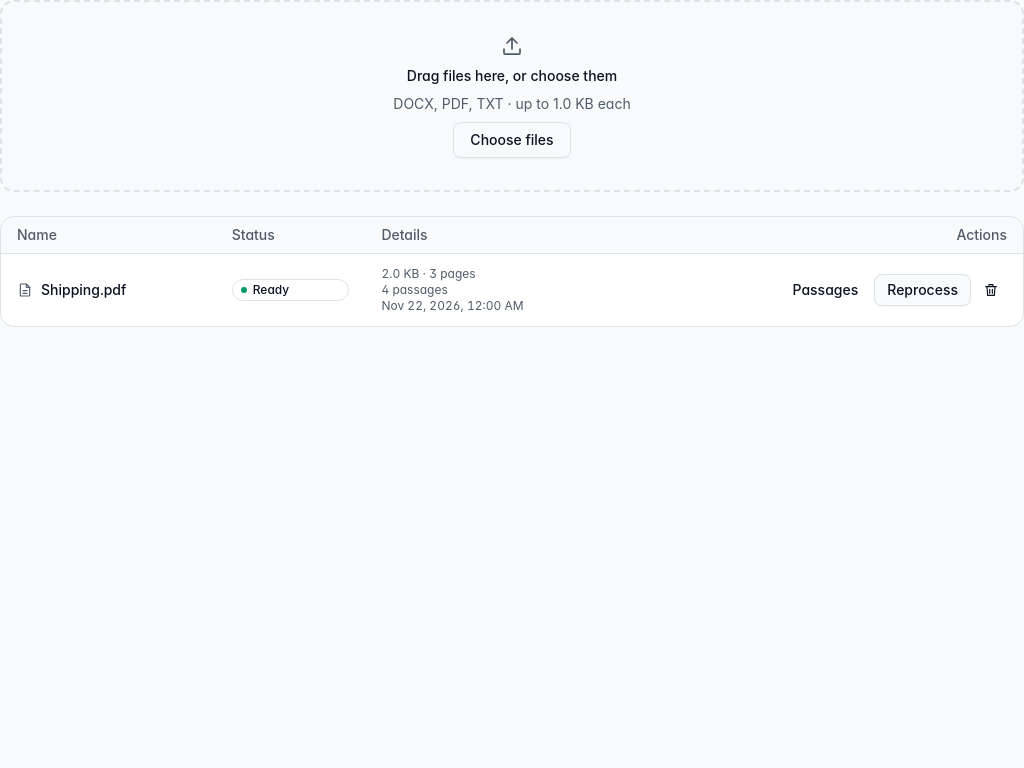
Test: DocumentsPanel › deletes only after confirmation
The image size is (1024, 768).
Check: the table is shown, box [1, 217, 1023, 326]
Click the button named "Delete Shipping.pdf": (991, 290) [975, 274, 1007, 306]
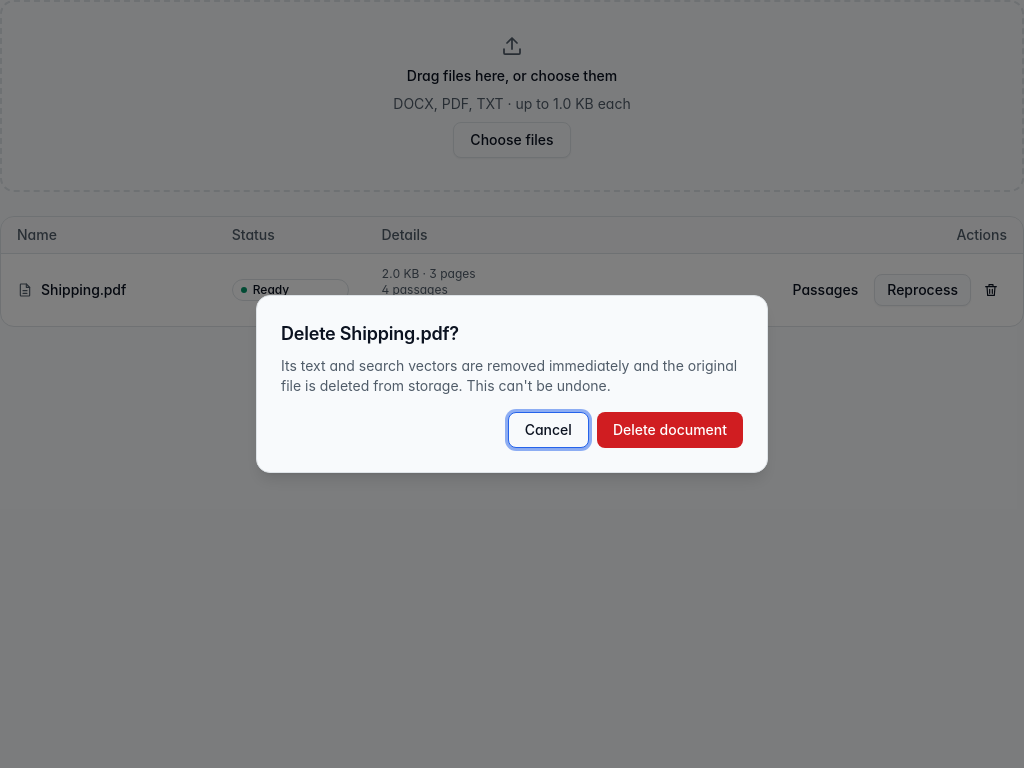
Click the button "Cancel": (548, 430) [508, 412, 589, 448]
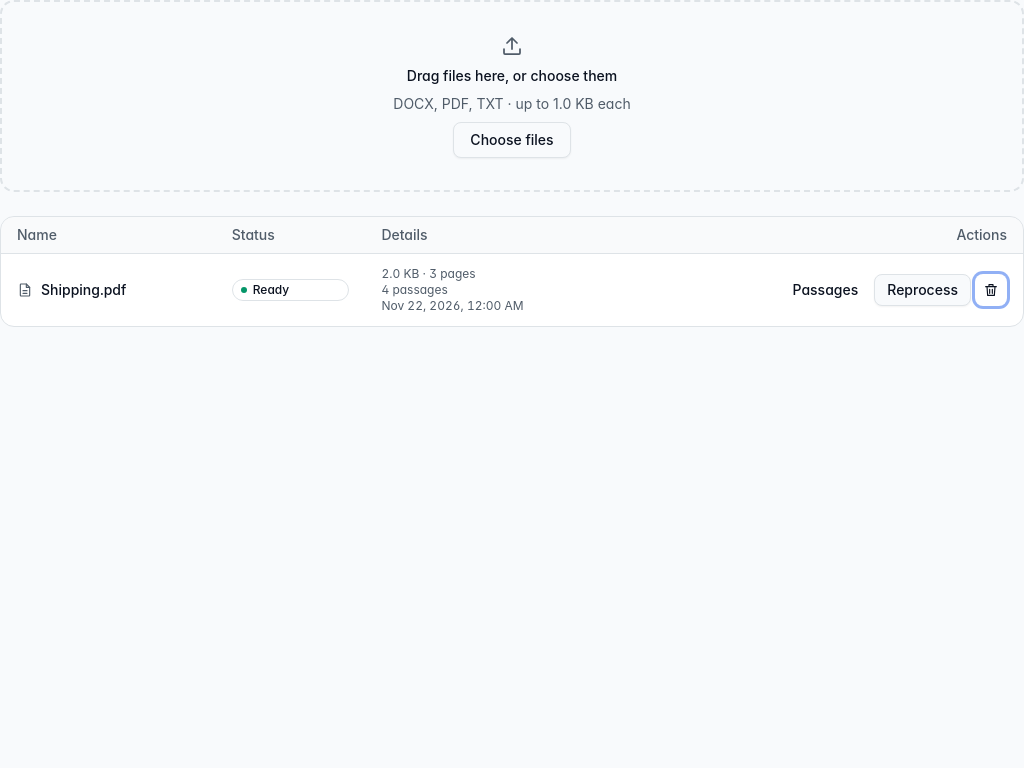
Click the button named "Delete Shipping.pdf": (991, 290) [975, 274, 1007, 306]
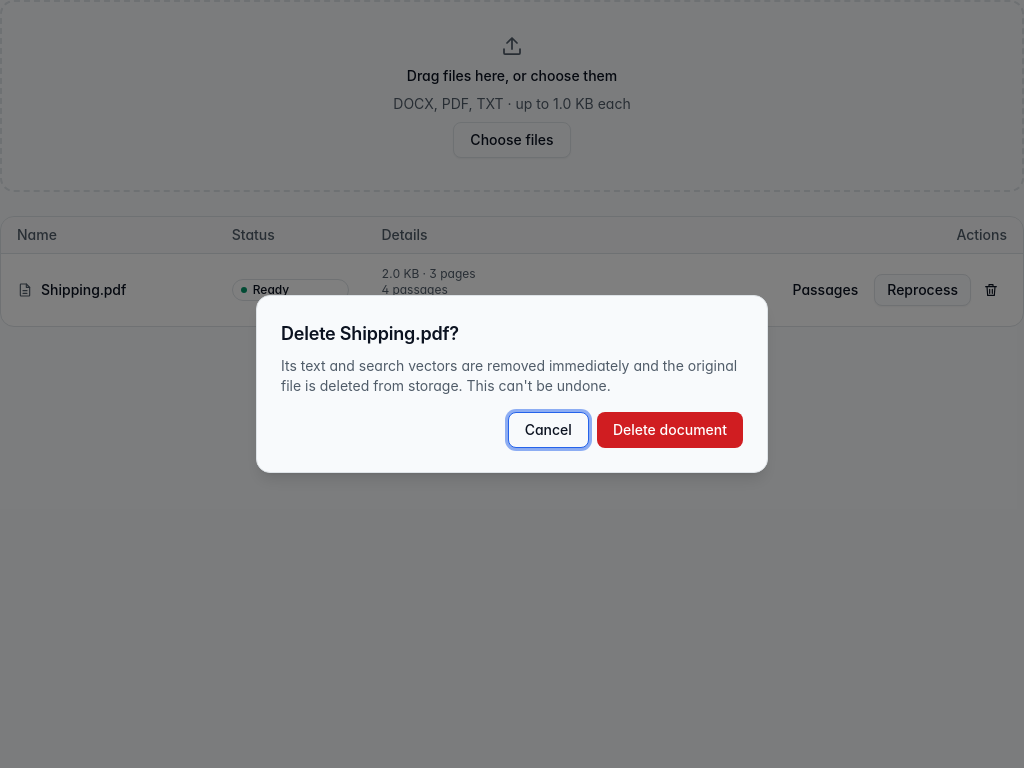
Click the button "Delete document": (670, 430) [597, 412, 743, 448]
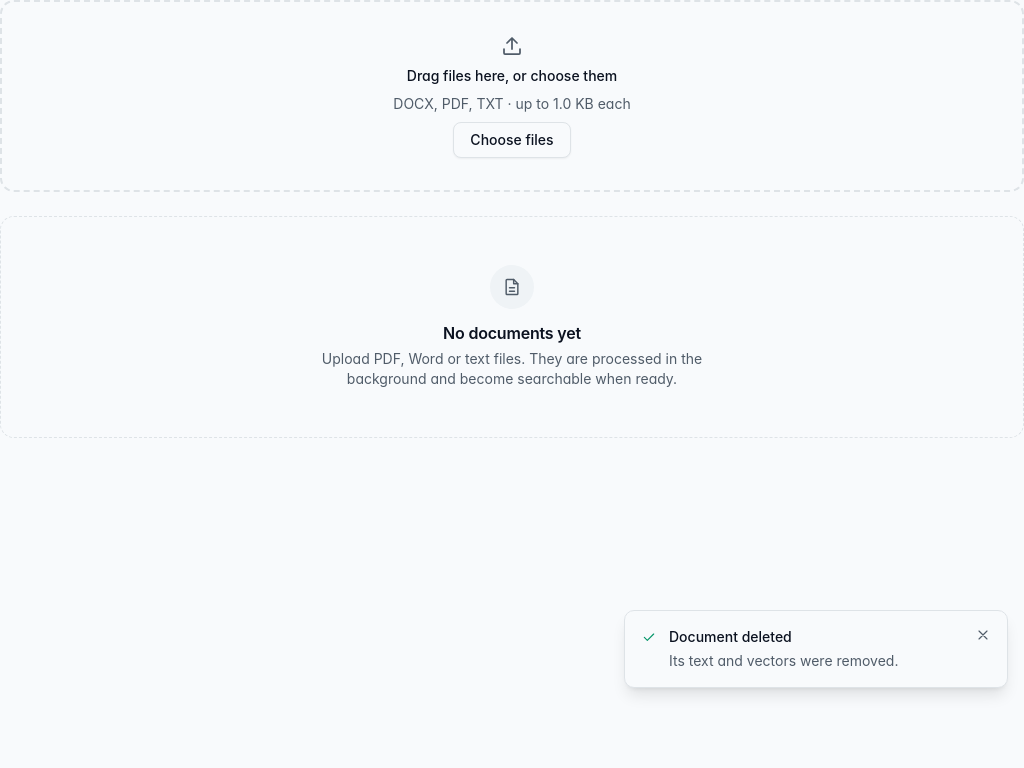
Check: the text "Document deleted" is shown, box [669, 628, 792, 645]
Check: the table is gone
